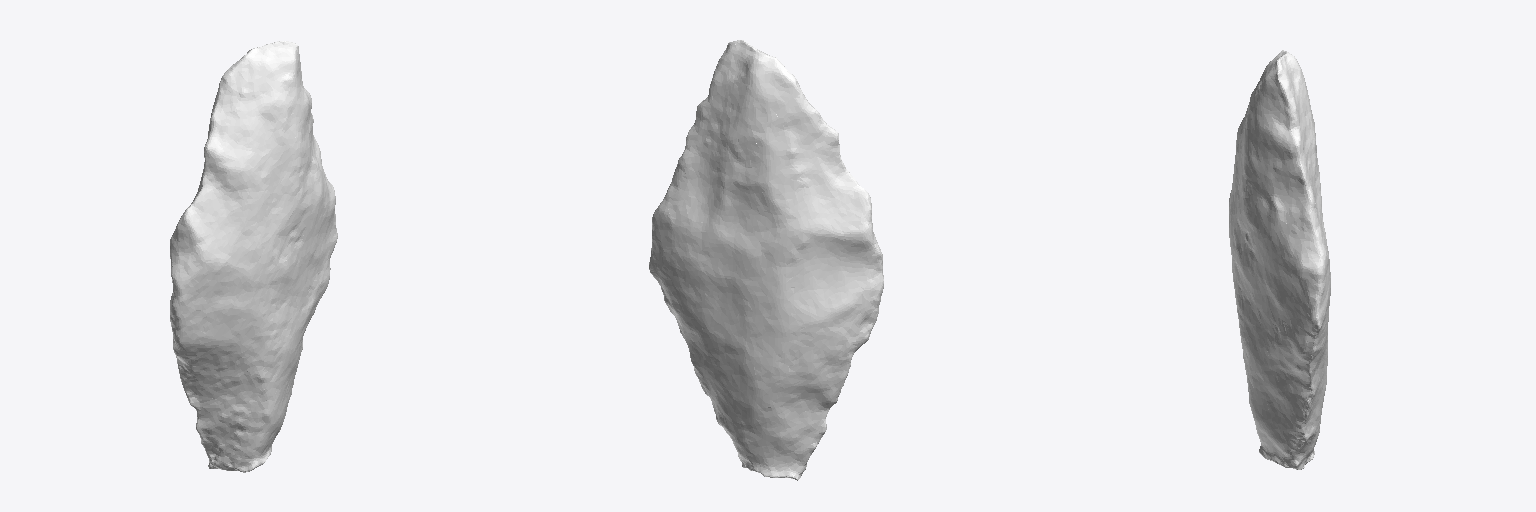
The model's file is pc494real.obj.
The picture shows the model from 3 angles: view 1: azimuth 30°, elevation 25°; view 2: azimuth 150°, elevation 25°; view 3: azimuth 270°, elevation 25°; orthographic projection.
Parts seen in each view (by area): view 1: pc494; view 2: pc494; view 3: pc494.
Part boxes in pixels (left/top/right/bottom): pc494: left=170, top=41, right=337, bottom=472; pc494: left=649, top=40, right=883, bottom=480; pc494: left=1229, top=50, right=1330, bottom=469.
Size of the model in its own units: 0.3823 by 0.7671 by 0.1704.